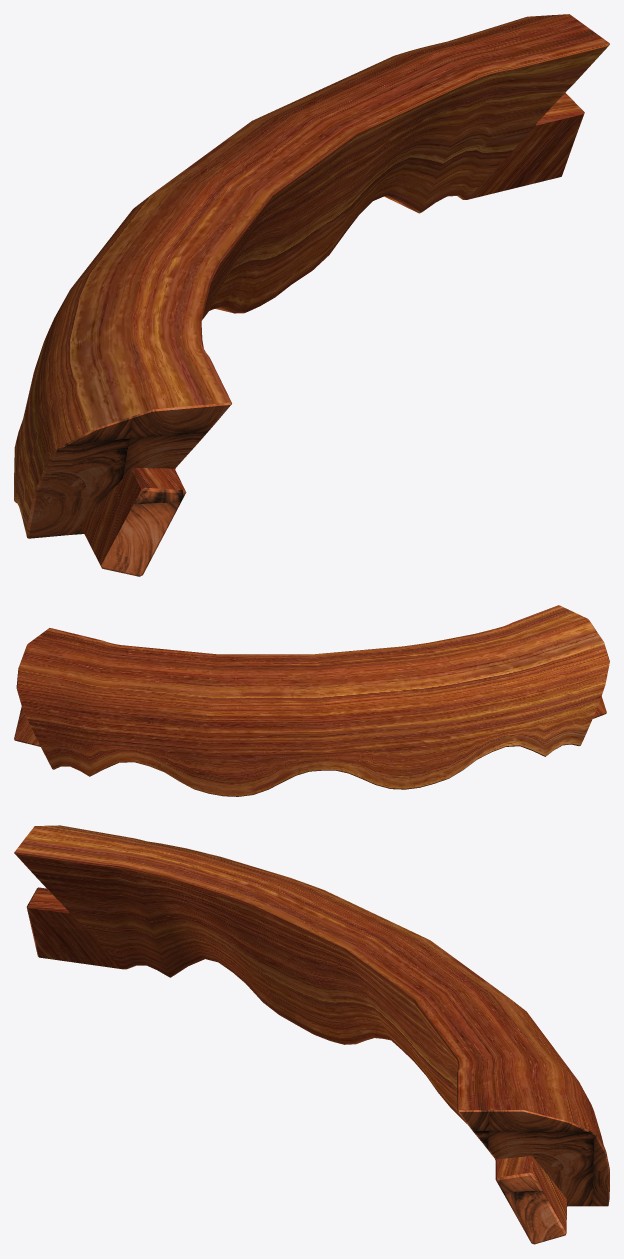
The model's file is yuandeng_J_D_yaban_04.FBX.
3 renders of one model, top to bottom at view 1: azimuth 30°, elevation 25°; view 2: azimuth 150°, elevation 25°; view 3: azimuth 270°, elevation 25°, orthographic. The views are drawn at different scales.
Visible parts, largest first — view 1: yuandeng_J_D_yaban_04; view 2: yuandeng_J_D_yaban_04; view 3: yuandeng_J_D_yaban_04.
Part boxes in pixels (box(x1,y1,x2,y2)): yuandeng_J_D_yaban_04: box(14, 14, 609, 576); yuandeng_J_D_yaban_04: box(14, 605, 609, 796); yuandeng_J_D_yaban_04: box(14, 825, 609, 1244).
Size of the model in its own units: 22.12 by 4.84 by 17.84.
2 materials, 2 textured.
